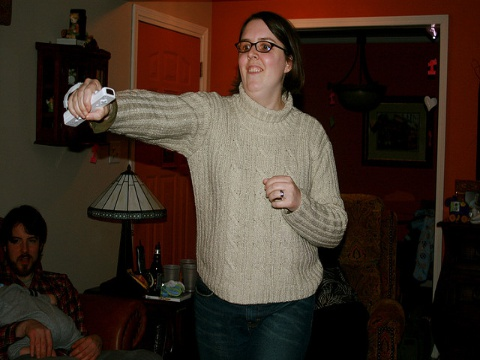hand: (263, 174, 297, 210)
